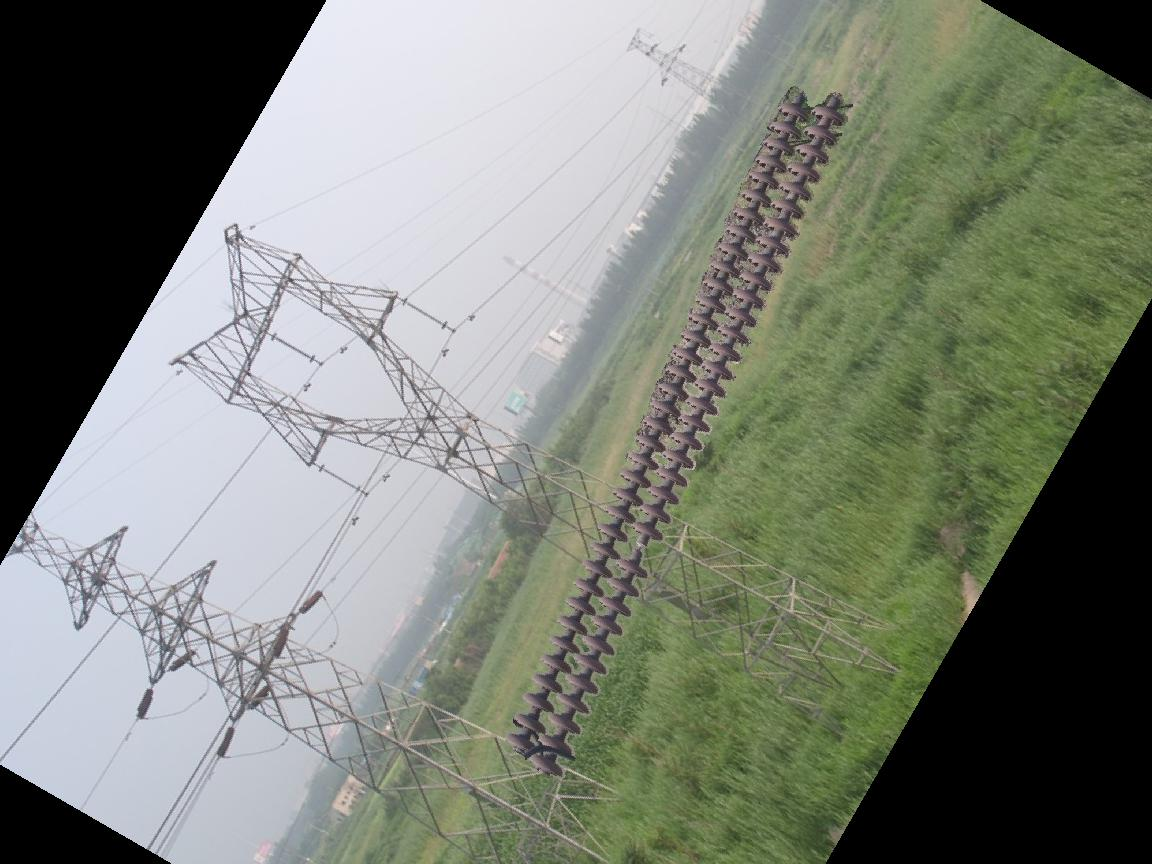insulator: (504, 85, 852, 780)
insulator_stringdrop: (614, 521, 665, 580)
